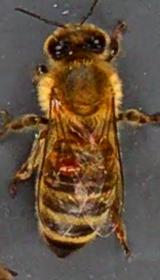varroa_mite: (46, 152, 87, 188)
